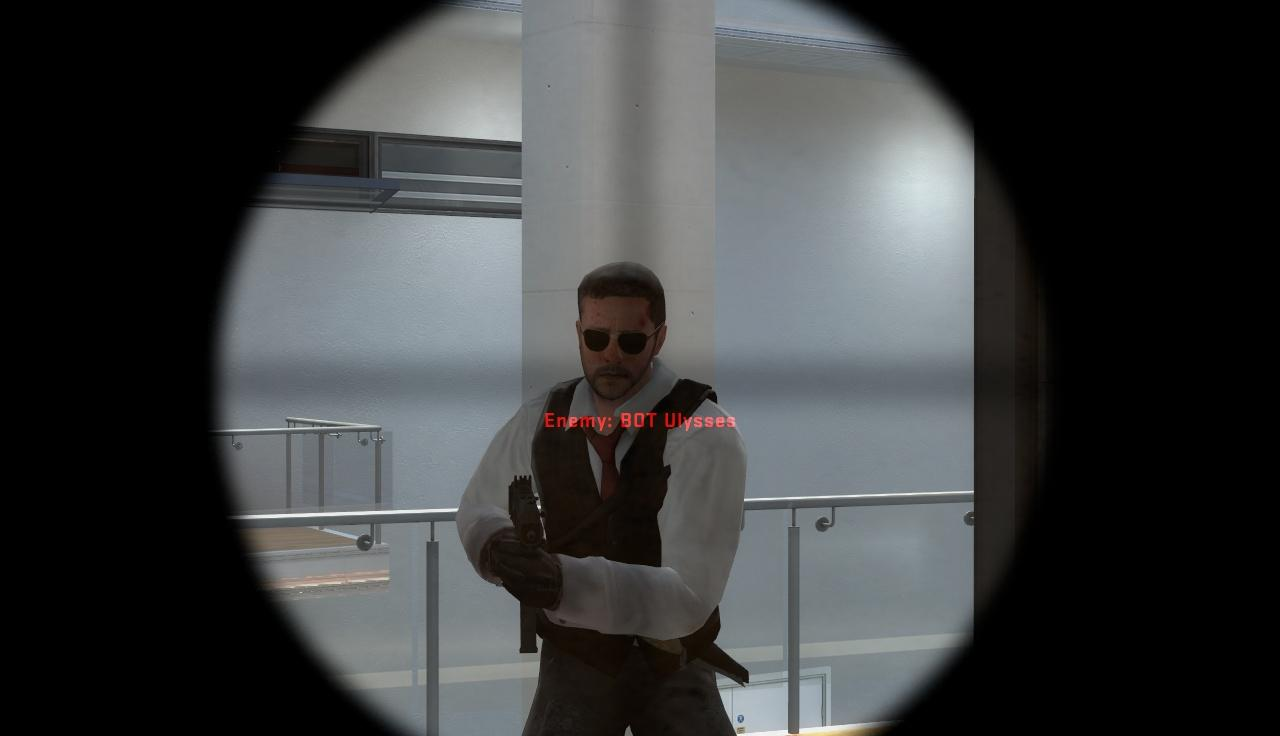tt: (471, 260, 740, 736)
tthead: (576, 262, 663, 400)
